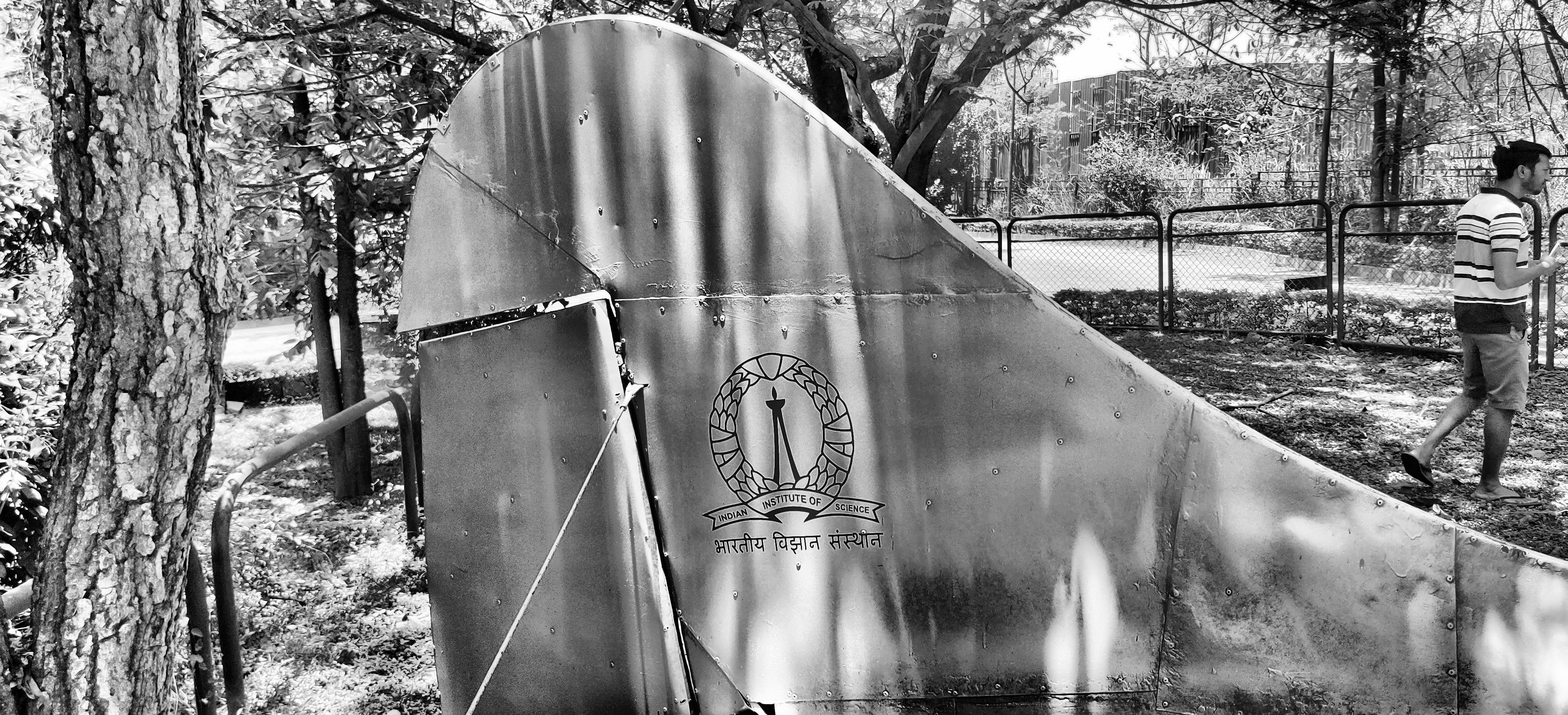crack: (737, 688, 753, 710)
dent: (1284, 498, 1342, 542)
paint-peel-off: (1511, 548, 1527, 558), (1501, 545, 1510, 554)
scratch: (885, 248, 924, 261), (964, 700, 1026, 705)
